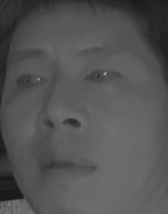eye: (82, 64, 123, 91), (14, 70, 50, 93)
mouth: (36, 145, 98, 185)
